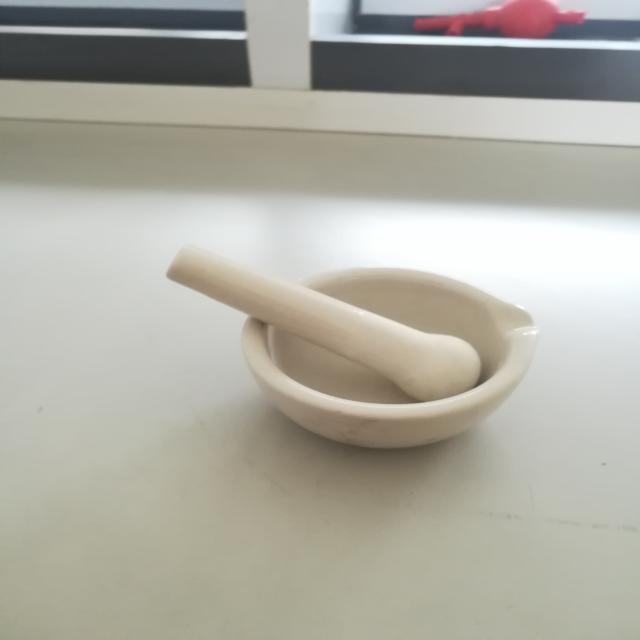Porcelain_Mortar Pestle: (125, 198, 580, 492)
